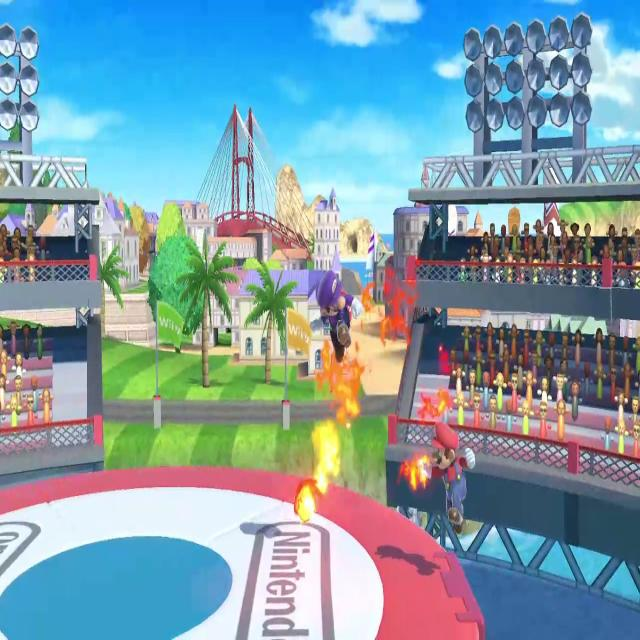Mario-BA: (308, 262, 366, 366)
Mario-NB: (418, 414, 477, 538)
